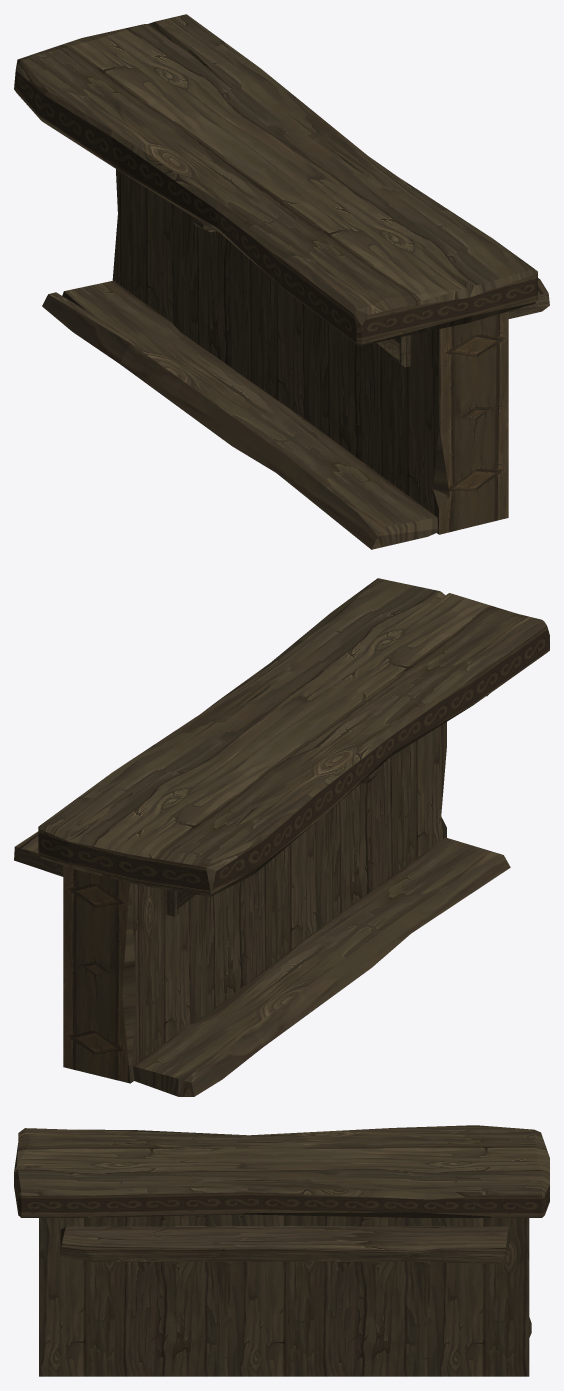
Rendered from Bar_02.fbx.
The picture shows the model from 3 angles, top to bottom: view 1: azimuth 30°, elevation 25°; view 2: azimuth 150°, elevation 25°; view 3: azimuth 270°, elevation 25°; orthographic projection. The views are drawn at different scales.
Visible parts, largest first — view 1: SM_Prop_Bar_02; view 2: SM_Prop_Bar_02; view 3: SM_Prop_Bar_02.
Boxes of the visible parts, x1,y1,x2,y2 form: SM_Prop_Bar_02: (14, 14, 549, 549); SM_Prop_Bar_02: (14, 578, 549, 1096); SM_Prop_Bar_02: (14, 1125, 549, 1376).
Bounding box in the file's own units: 106 × 107 × 273.
